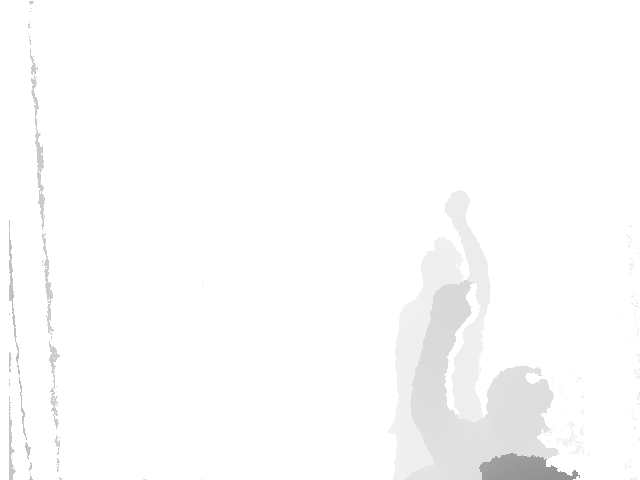hand: (428, 286, 473, 332), (443, 187, 471, 229)
head: (484, 361, 556, 437), (419, 236, 462, 288)
person: (418, 292, 565, 480), (394, 166, 490, 424)
